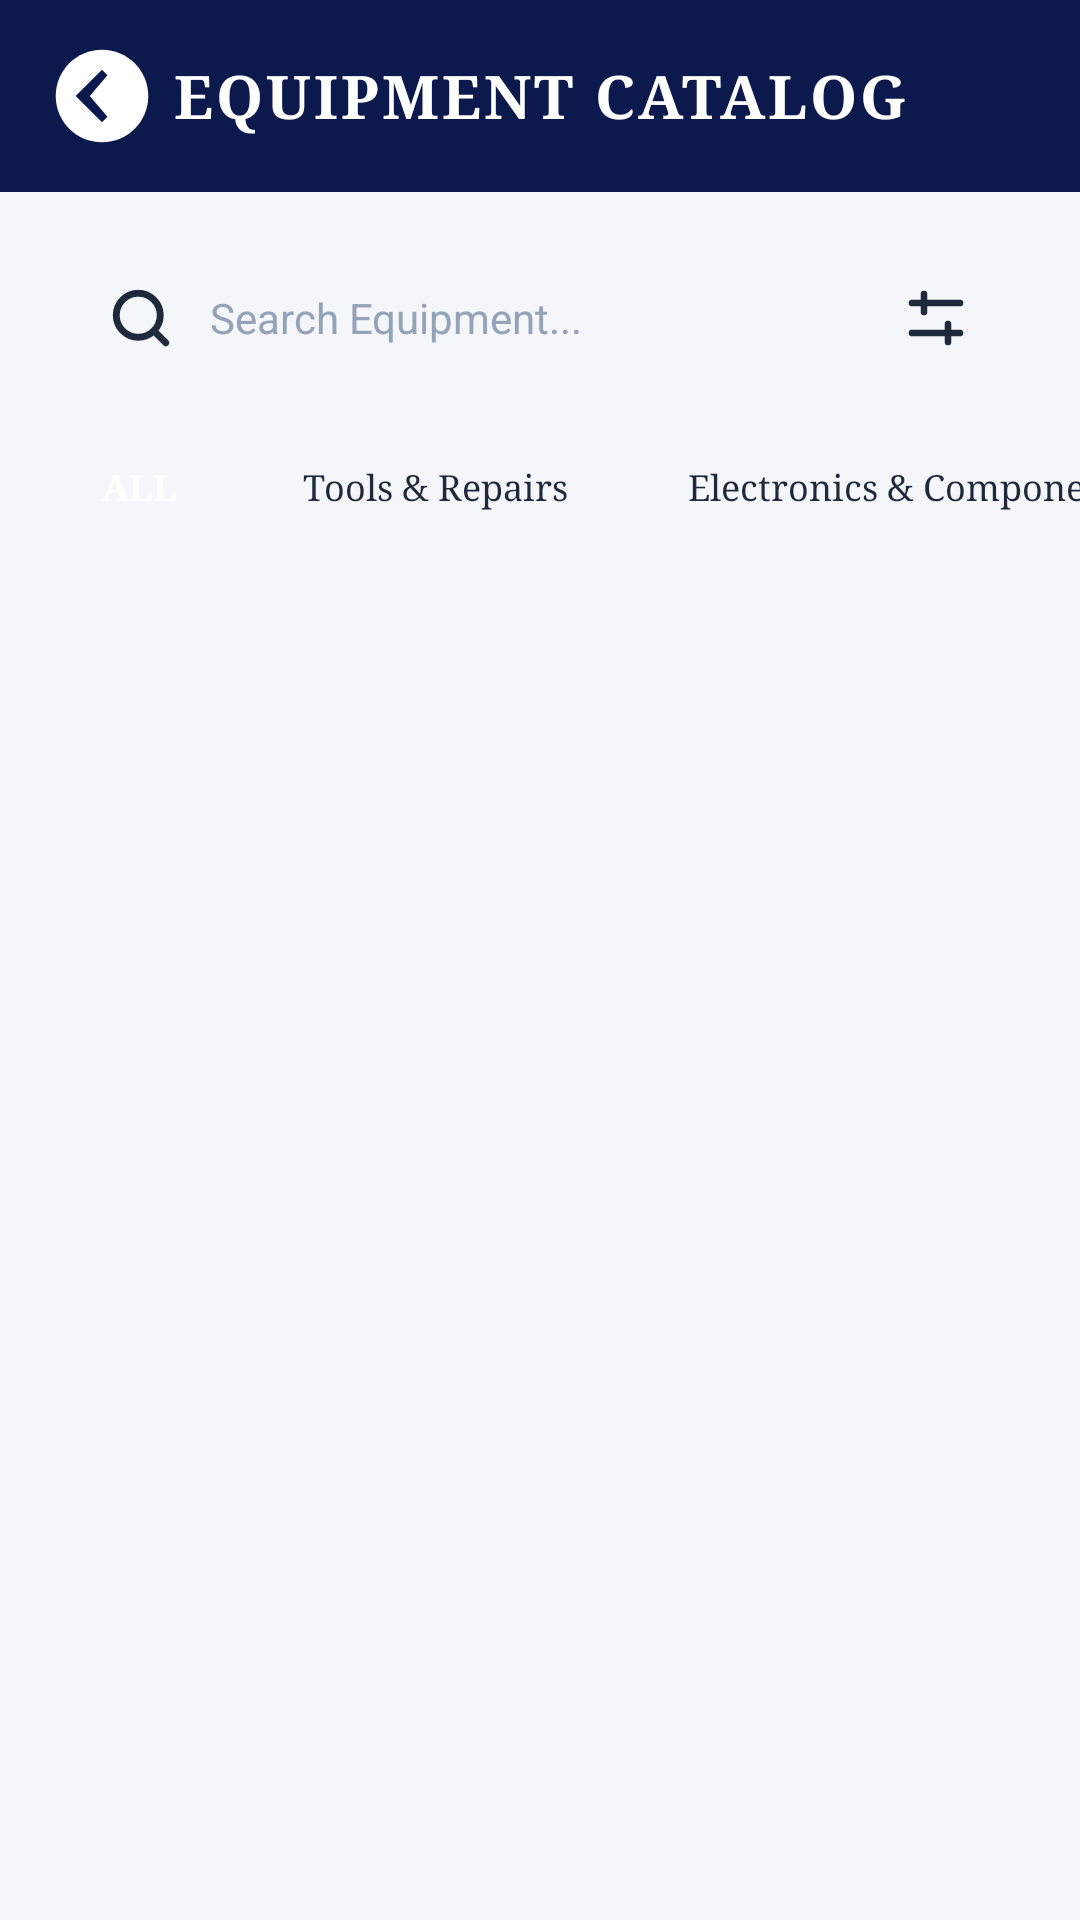

Icons on this 1080×1920 Android screen, each with its box as detection(x1, y1, x2, y2):
Back: detection(55, 49, 149, 143)
Filter / Clear: detection(908, 290, 964, 346)
